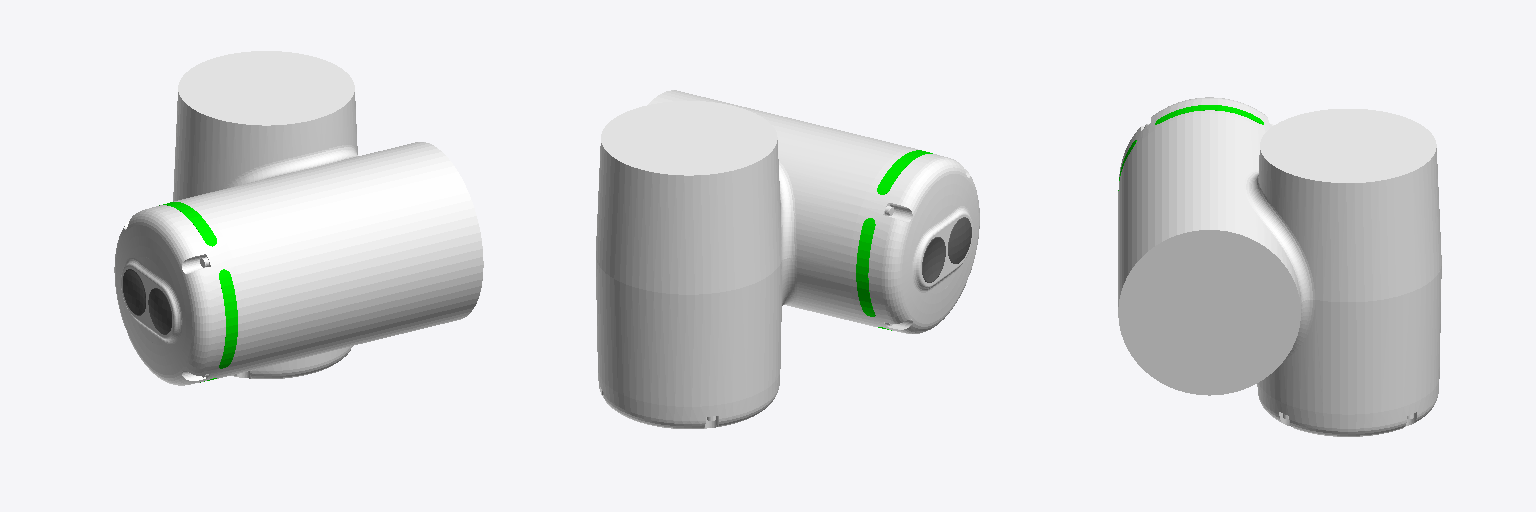
Rendered from Joint_5.obj.
3 views of the same model, side by side, from view 1: azimuth 30°, elevation 25°; view 2: azimuth 150°, elevation 25°; view 3: azimuth 270°, elevation 25° (orthographic).
Parts seen in each view (by area): view 1: Solid1; view 2: Solid1; view 3: Solid1.
Boxes of the visible parts, box(x1,y1,x2,y2) form: Solid1: box(114, 51, 483, 385); Solid1: box(596, 90, 979, 428); Solid1: box(1118, 97, 1441, 436).
Size of the model in its own units: 0.1955 by 0.168 by 0.1867.